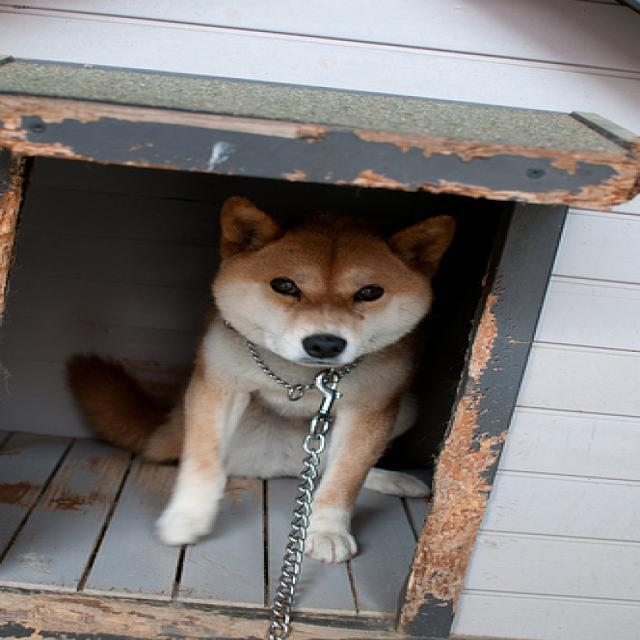dog-shiba_inu: (50, 192, 472, 573)
